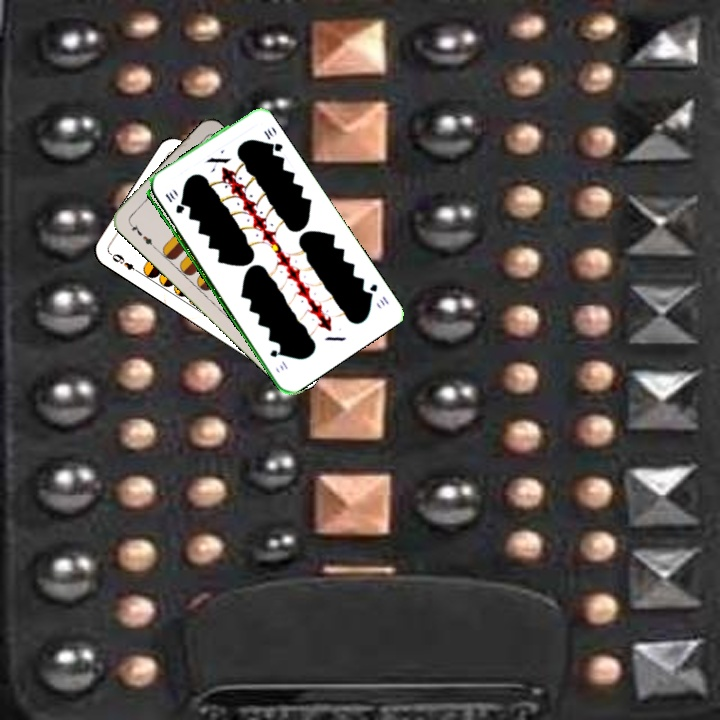E7: (125, 219, 158, 251)
E9: (107, 249, 143, 277)
G10: (363, 280, 391, 308), (161, 189, 185, 216)
